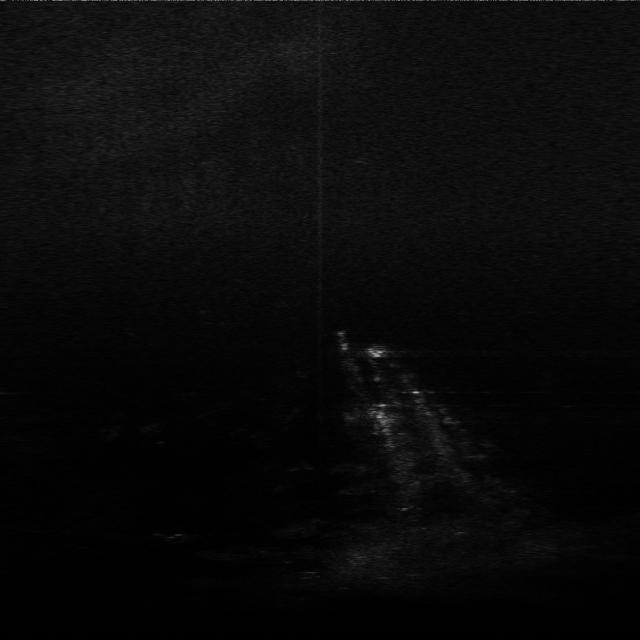rov: (364, 344, 390, 361)
